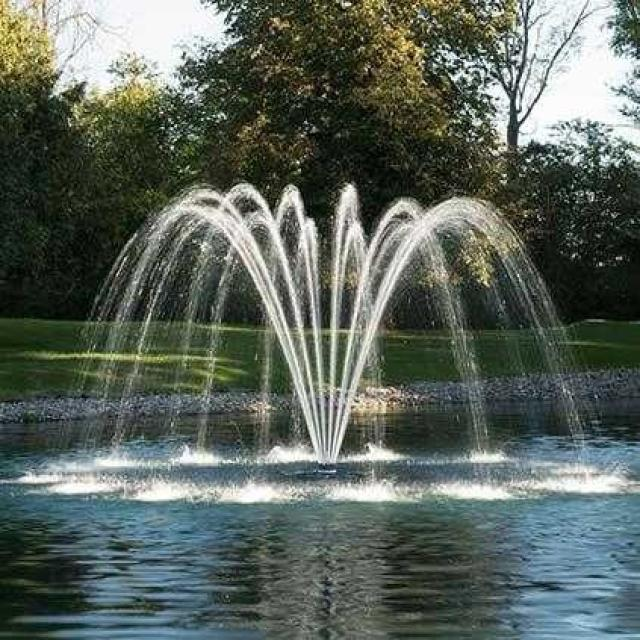Ponds: (7, 389, 640, 640)
